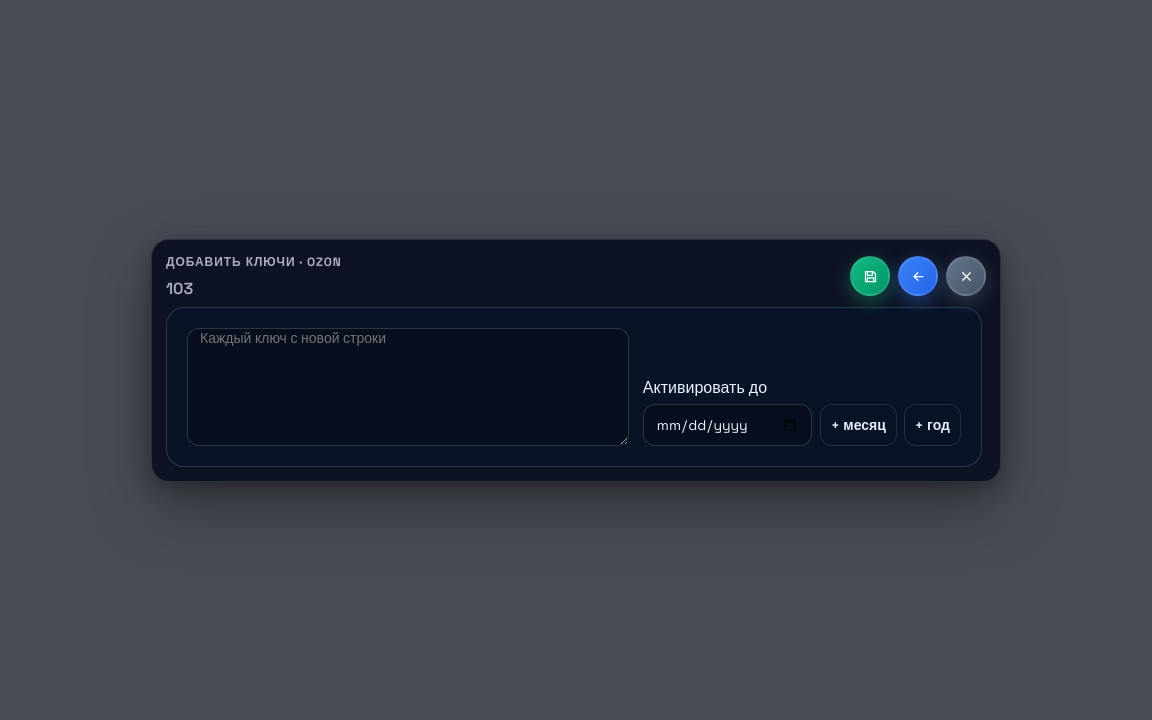
it: WorkMarketplaceKeyPoolModal › adds a month or a year to the selected key expiration date
Step 1. Click the button with aria-label "Добавить месяц к дате" → [858, 424], box x1=820 y1=404 x2=897 y2=446
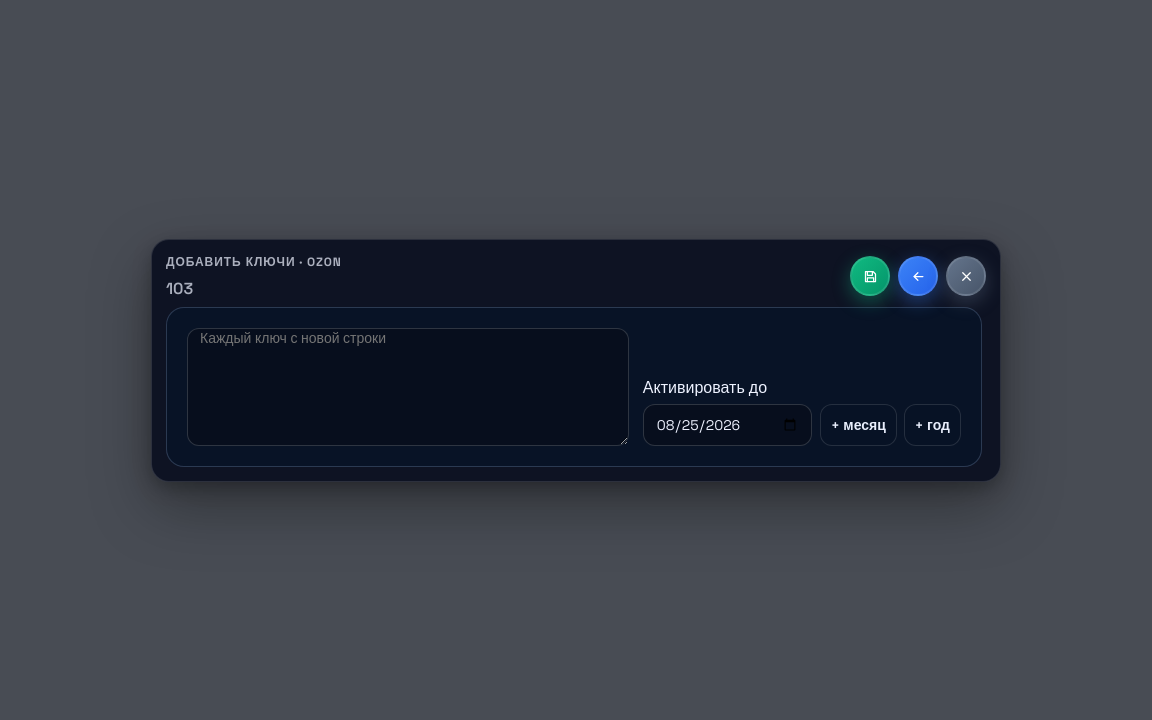
expect the date field holds "2026-08-25": met, box x1=643 y1=404 x2=812 y2=446
Step 2. Click the button with aria-label "Добавить год к дате" → [932, 424], box x1=904 y1=404 x2=961 y2=446
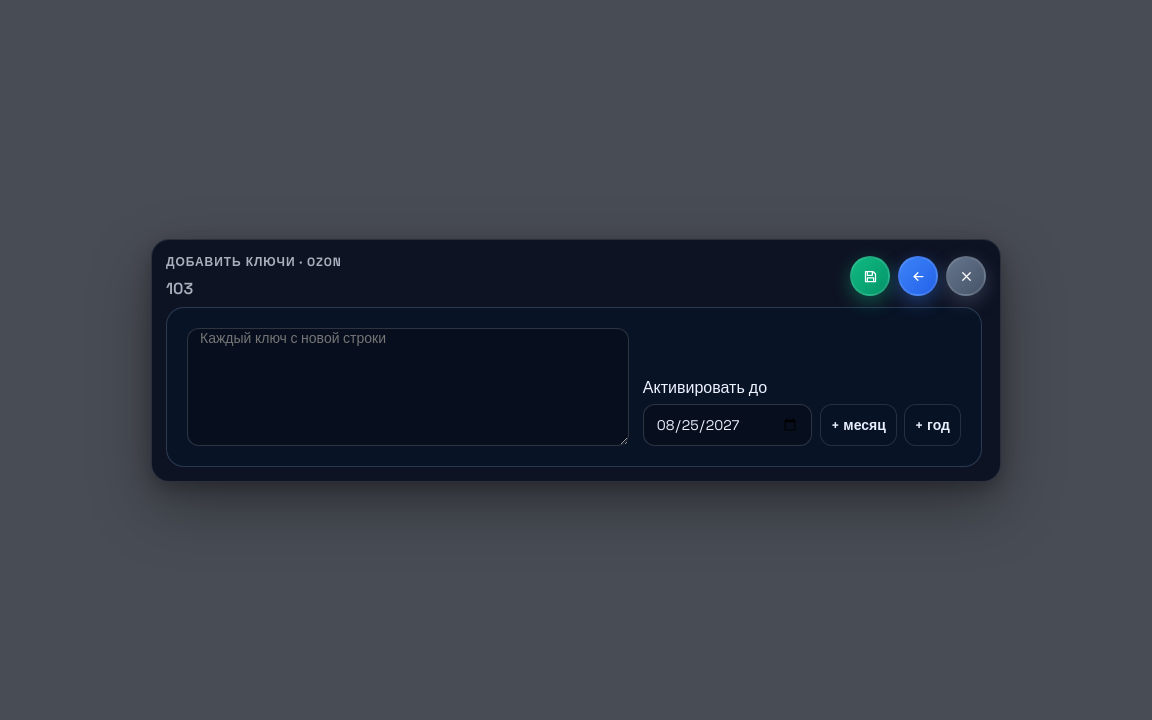
expect the date field holds "2027-08-25": met, box x1=643 y1=404 x2=812 y2=446
